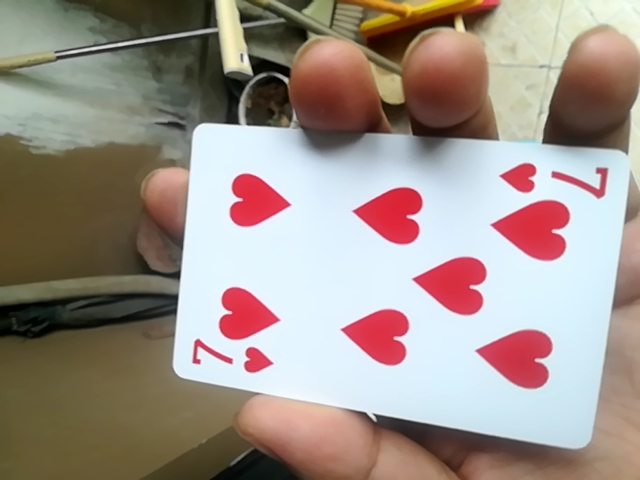hx 7: (170, 119, 627, 450)
